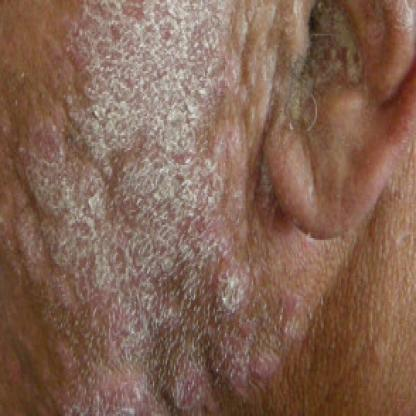Psoriasis: (19, 0, 272, 414)
